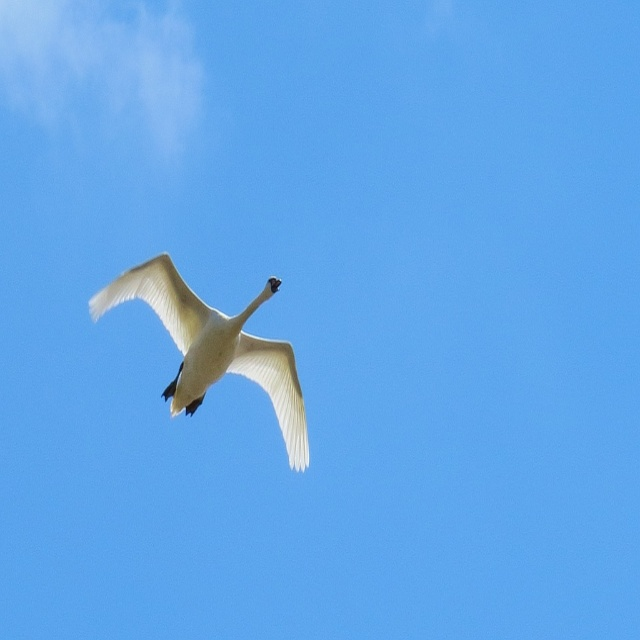Goose: (88, 252, 310, 471)
